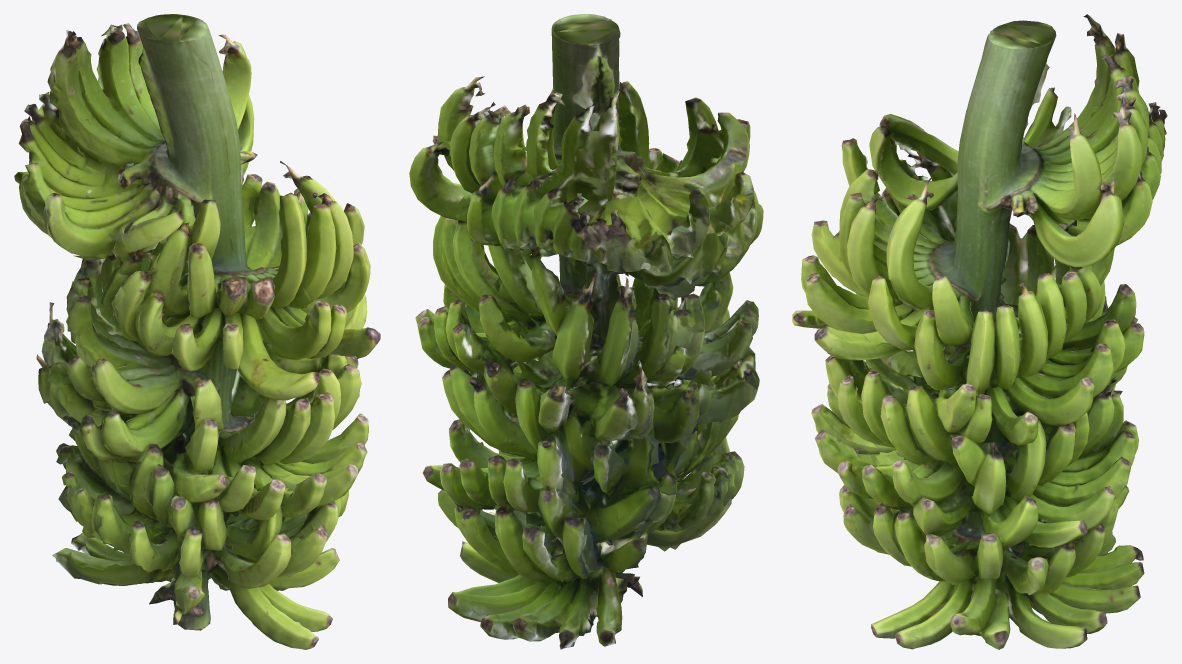
3 renders of one model, left to right at view 1: azimuth 30°, elevation 25°; view 2: azimuth 150°, elevation 25°; view 3: azimuth 270°, elevation 25°, orthographic. The views are drawn at different scales.
Parts seen in each view (by area): view 1: Object_4; view 2: Object_4; view 3: Object_4.
Part boxes in pixels (bbox=[...]): Object_4: bbox=[14, 14, 380, 649]; Object_4: bbox=[409, 14, 763, 649]; Object_4: bbox=[792, 14, 1167, 649].
Size of the model in its own units: 0.0885 by 0.1606 by 0.0952.
Materials: 1 (1 with a texture image).
